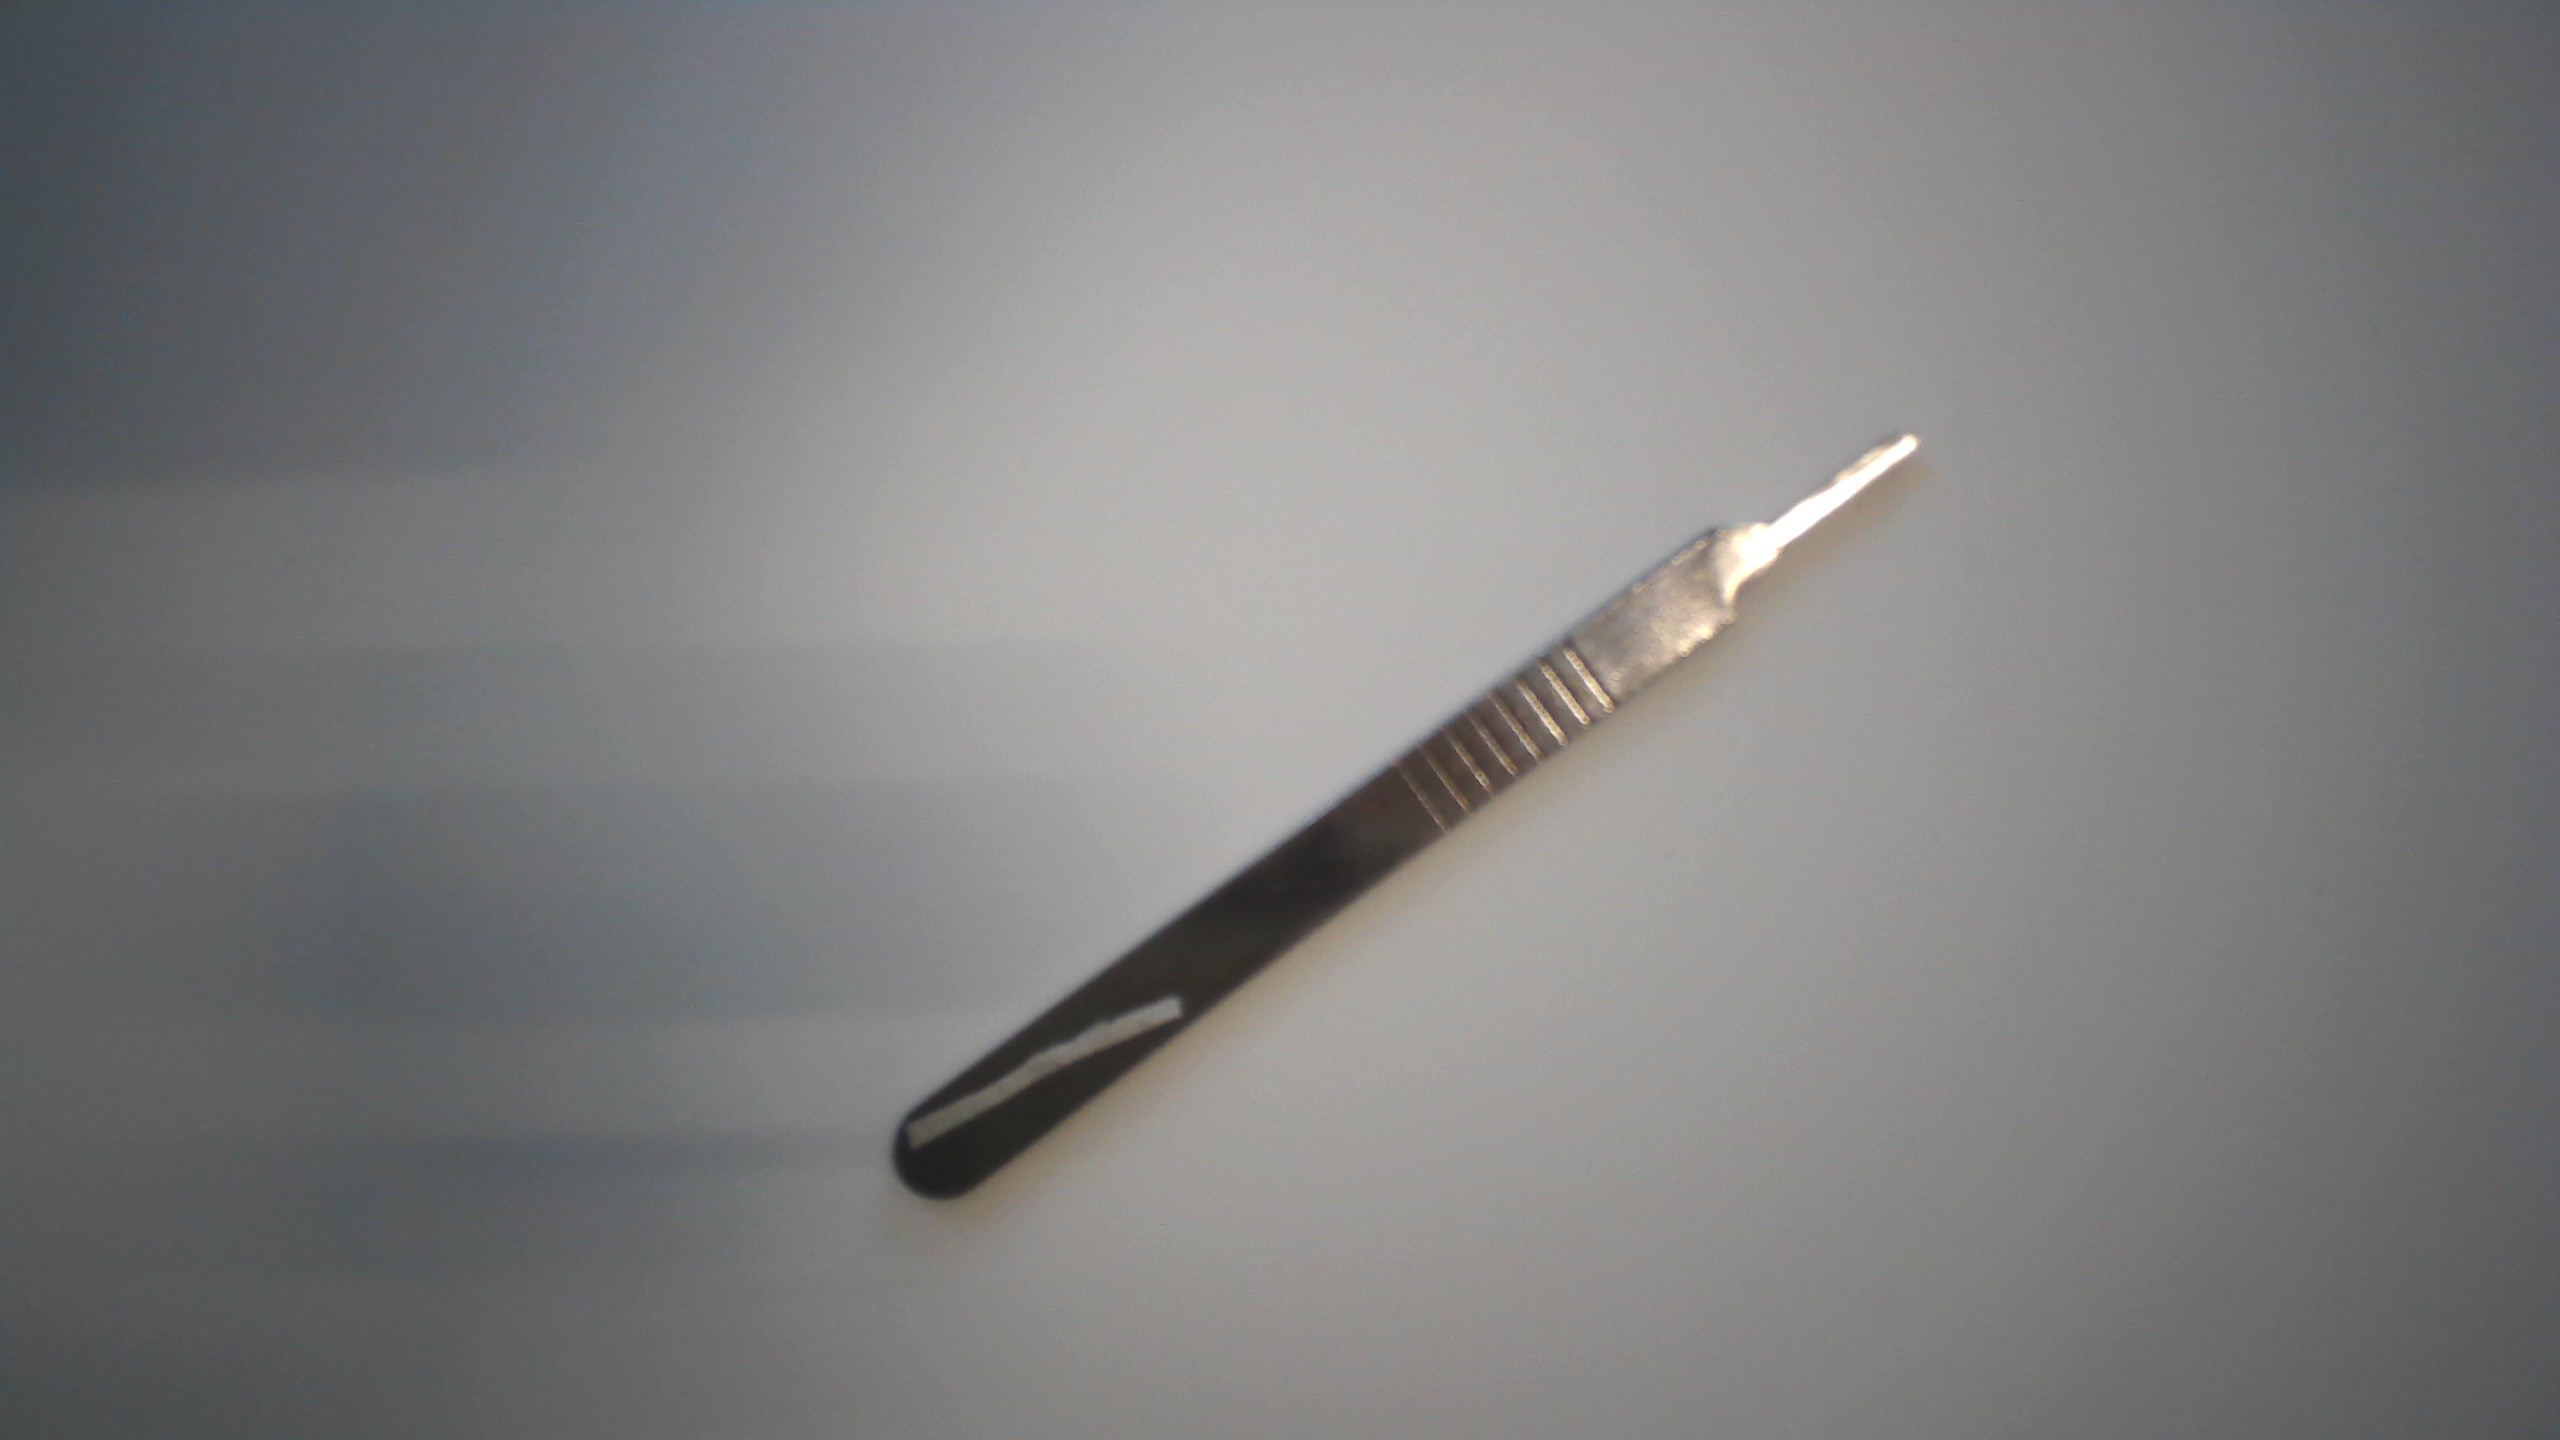Scratches: (886, 986, 1197, 1148)
